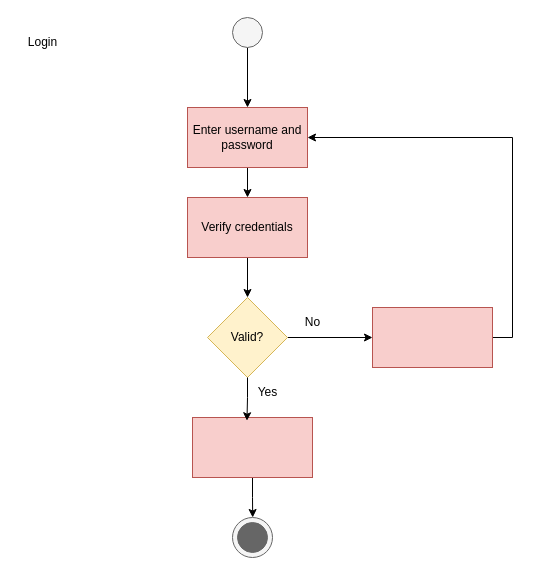
Some shapes in this 538 by 575 pixel diagram are drawn without their labels. Here are the shapes that lost their labels. From the top down, the box of each, then its label:
(372, 306, 492, 368): Error message
(192, 416, 312, 478): Login success
